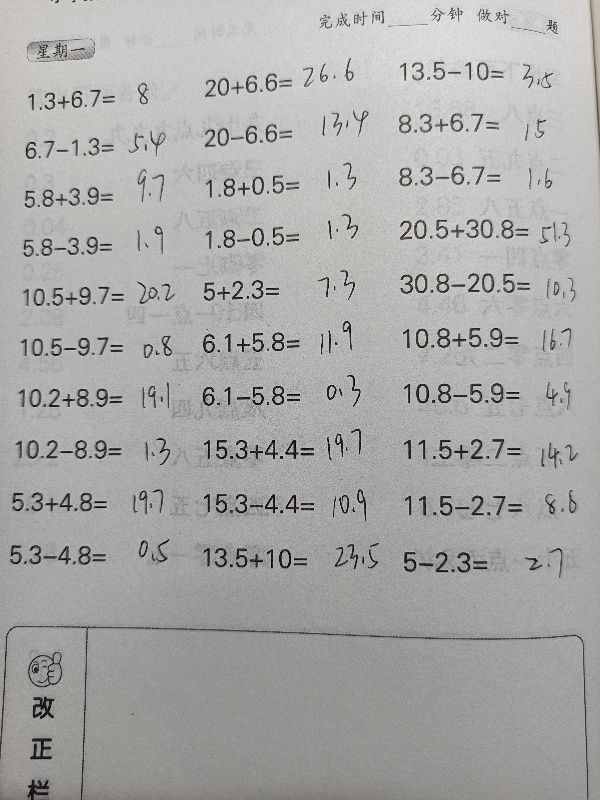equation: (398, 205, 582, 256), (194, 259, 373, 307), (196, 106, 380, 152), (197, 158, 381, 203), (196, 426, 376, 471), (194, 321, 374, 361), (194, 484, 374, 522), (193, 378, 373, 416), (195, 60, 375, 98), (395, 544, 575, 581), (194, 540, 374, 576), (396, 488, 576, 524), (396, 431, 576, 467), (396, 375, 576, 411), (395, 319, 575, 355), (391, 265, 571, 301), (196, 219, 376, 255), (390, 157, 570, 193), (389, 104, 569, 140), (1, 537, 181, 572), (4, 484, 184, 519), (8, 432, 188, 467), (12, 329, 192, 364), (16, 130, 196, 165), (392, 54, 572, 89), (11, 381, 191, 415), (14, 279, 194, 313), (14, 229, 194, 263), (15, 180, 195, 214), (20, 83, 200, 116)
